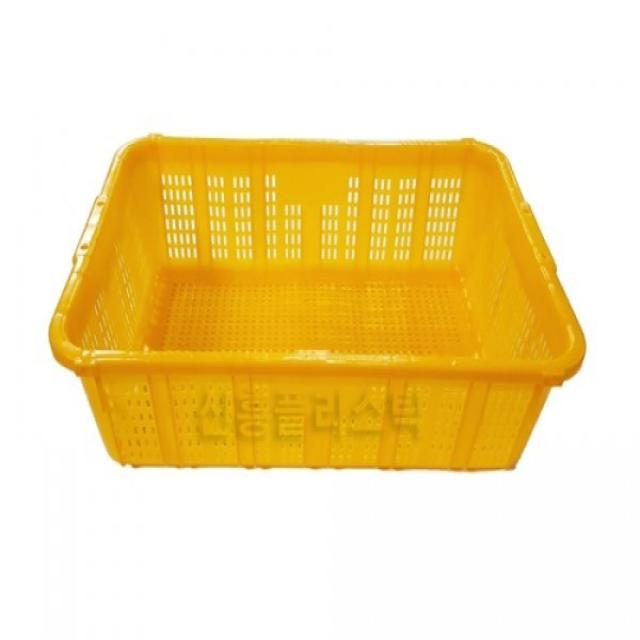basket: (47, 134, 590, 471)
